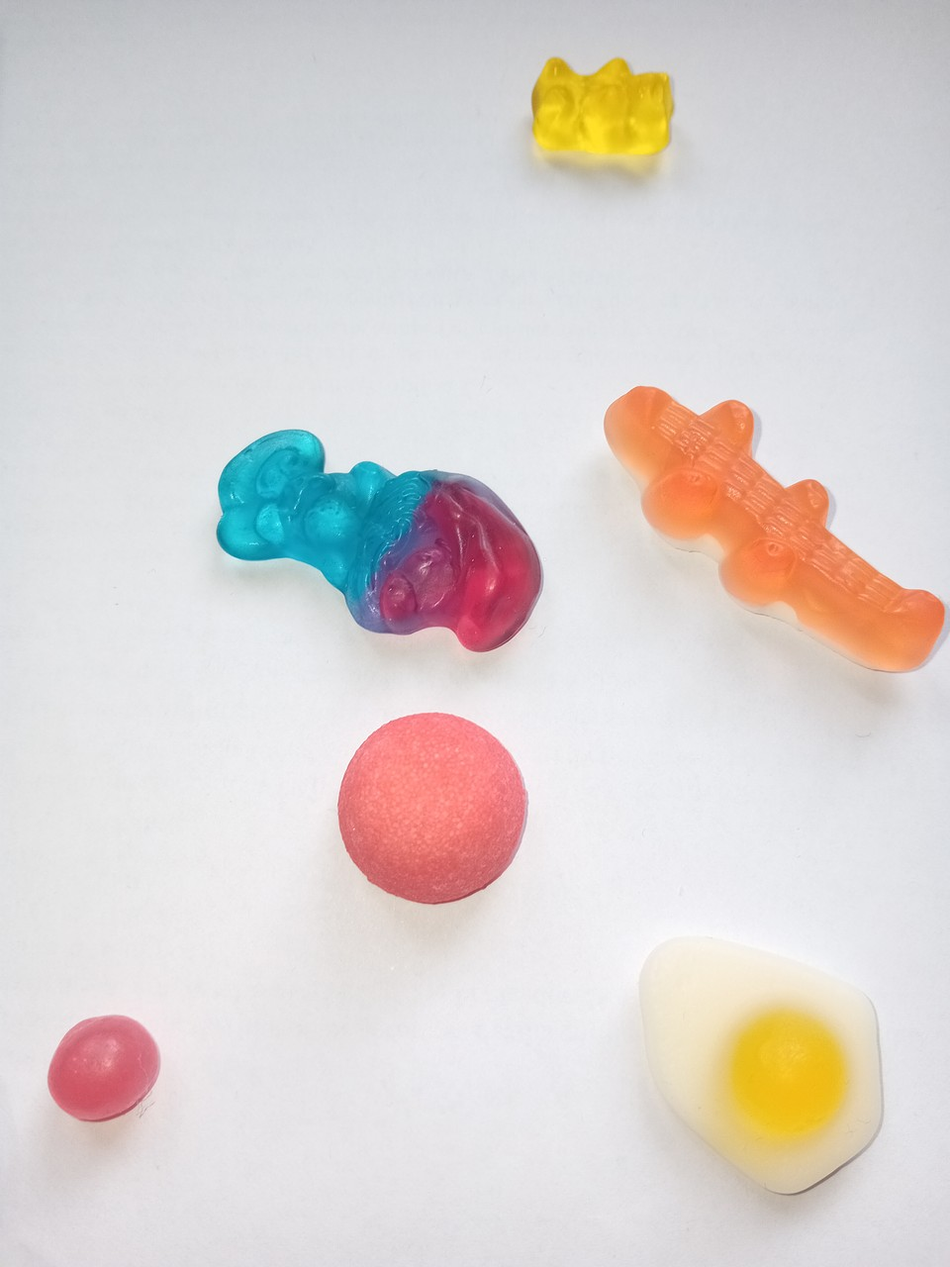crocodile_orange: (599, 382, 946, 678)
dragibus_rouge: (43, 1011, 164, 1123)
oeuf_oeuf: (630, 932, 891, 1200)
ourson_jaune: (525, 50, 682, 164)
schtroumpf_bleu-rouge: (209, 423, 547, 655)
tagada_fraise: (335, 709, 534, 905)
